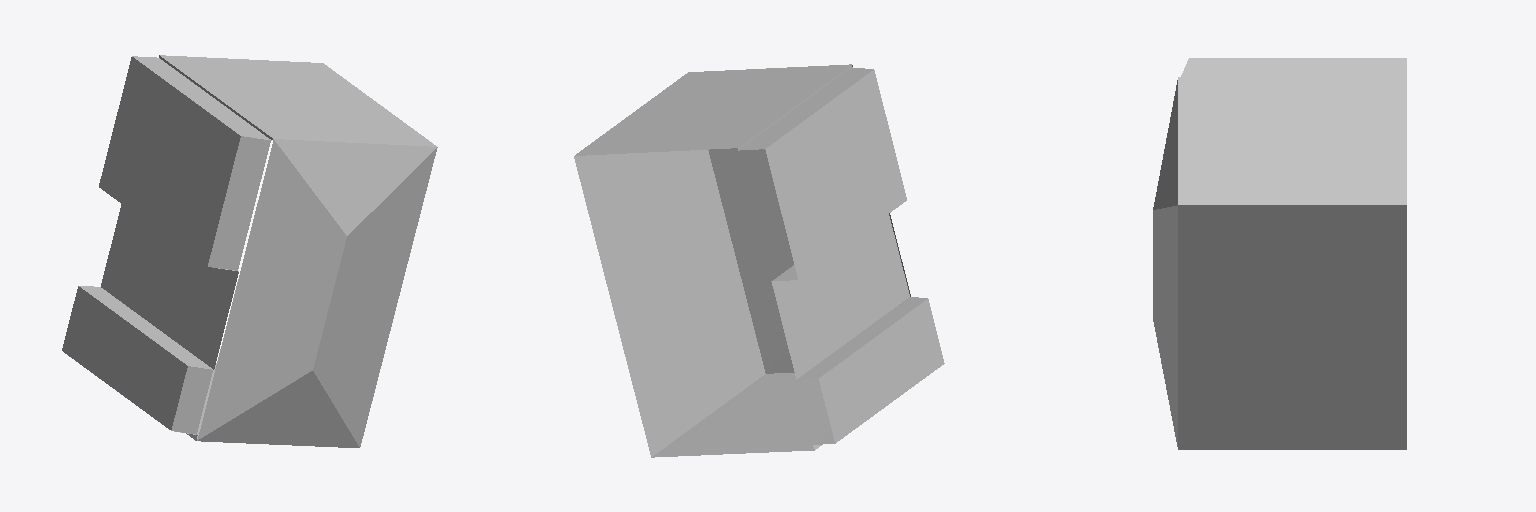
The model's file is talo_Build0000009.obj.
3 views of the same model, side by side, from view 1: azimuth 30°, elevation 25°; view 2: azimuth 150°, elevation 25°; view 3: azimuth 270°, elevation 25° (orthographic).
Bounding box in the file's own units: 18.01 × 22.13 × 15.15.